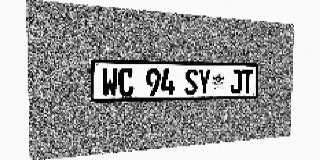4: (161, 69, 175, 95)
9: (146, 68, 161, 96)
C: (118, 68, 134, 96)
J: (230, 70, 242, 94)
S: (184, 69, 198, 95)
T: (242, 70, 253, 94)
W: (102, 68, 118, 97)
Y: (198, 69, 211, 95)
